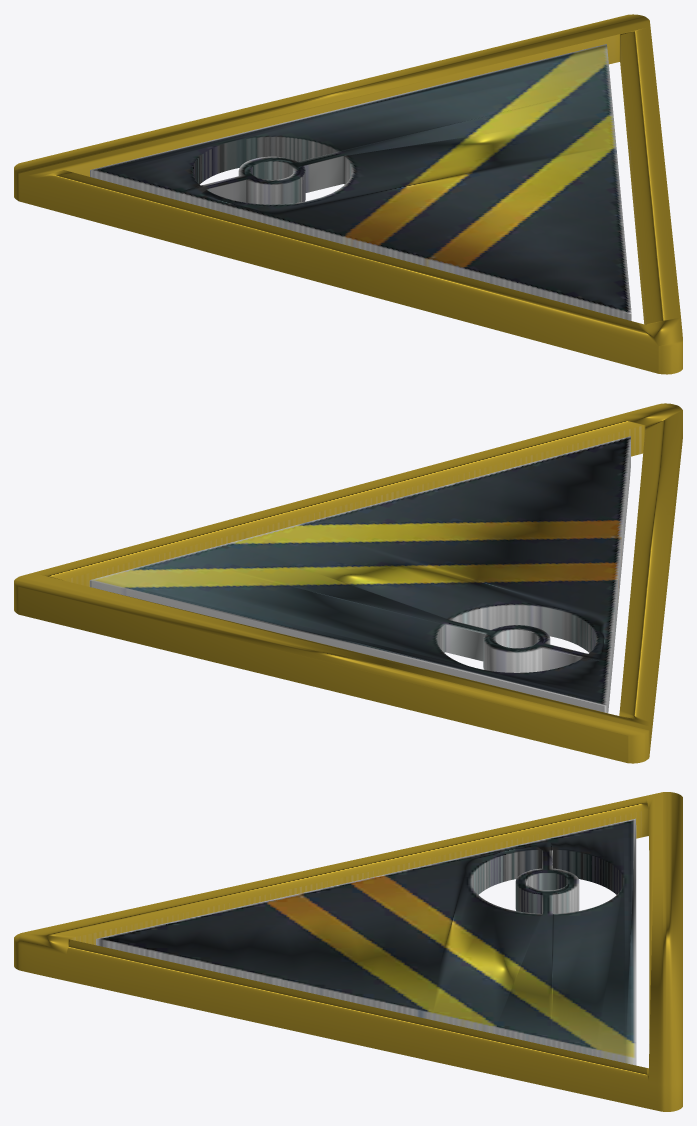
The picture shows the model from 3 angles, top to bottom: view 1: azimuth 30°, elevation 25°; view 2: azimuth 150°, elevation 25°; view 3: azimuth 270°, elevation 25°; orthographic projection. The views are drawn at different scales.
Visible parts, largest first — view 1: path1587; view 2: path1587; view 3: path1587.
Boxes of the visible parts, left/top/right/bottom form: path1587: left=14, top=14, right=682, bottom=374; path1587: left=14, top=403, right=682, bottom=763; path1587: left=14, top=792, right=682, bottom=1111.
Size of the model in its own units: 71.54 by 3 by 68.93.
Materials: 1 (1 with a texture image).
